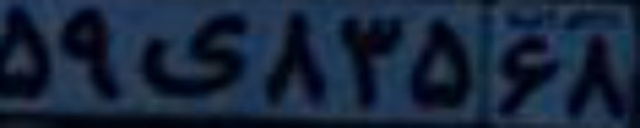3: (337, 15, 403, 108)
5: (406, 17, 472, 109), (0, 7, 51, 101)
6: (488, 36, 561, 114)
8: (265, 12, 328, 104), (568, 35, 630, 119)
9: (56, 8, 123, 98)
ye: (138, 11, 249, 98)
